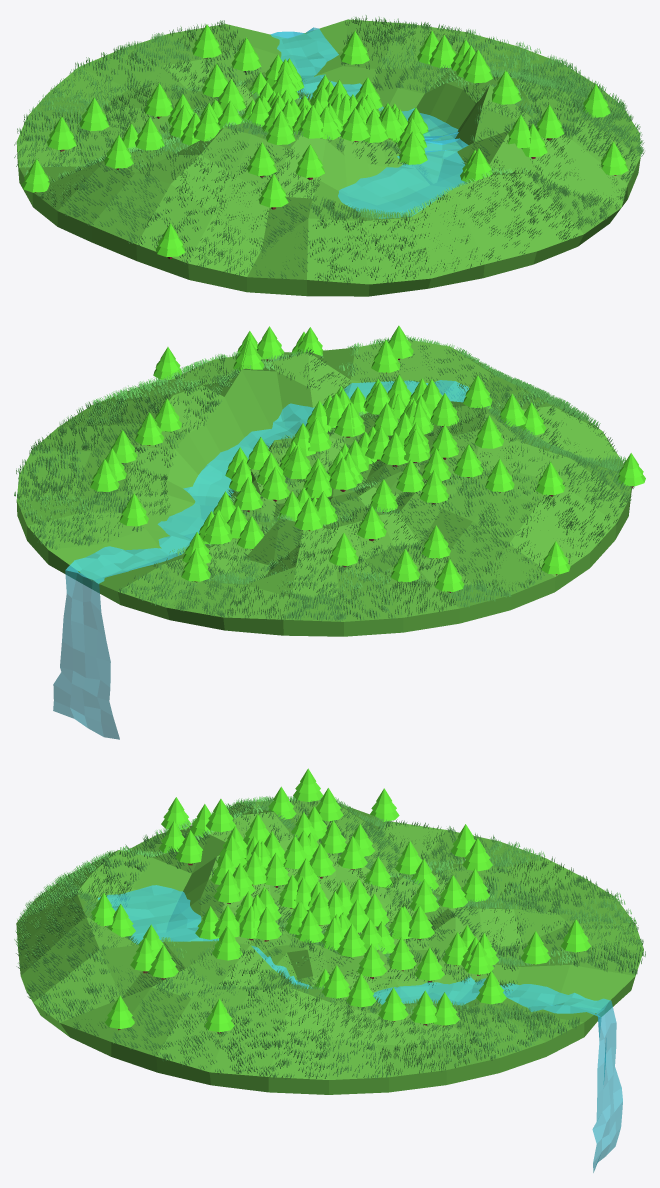
Rendered from lowpoly_stylized_environement.glb.
The picture shows the model from 3 angles, top to bottom: view 1: azimuth 30°, elevation 25°; view 2: azimuth 150°, elevation 25°; view 3: azimuth 270°, elevation 25°; orthographic projection.
Parts seen in each view (by area): view 1: Object_7, Object_2, Object_5, Object_6, Object_3; view 2: Object_7, Object_2, Object_5, Object_6, Object_3; view 3: Object_7, Object_2, Object_5, Object_6, Object_3.
Boxes of the visible parts, left/top/right/bottom form: Object_7: left=16, top=19, right=640, bottom=296; Object_2: left=21, top=24, right=628, bottom=256; Object_5: left=14, top=15, right=644, bottom=284; Object_6: left=16, top=16, right=643, bottom=283; Object_3: left=270, top=27, right=468, bottom=218; Object_7: left=16, top=339, right=631, bottom=636; Object_2: left=90, top=325, right=645, bottom=591; Object_5: left=16, top=335, right=634, bottom=620; Object_6: left=14, top=335, right=631, bottom=621; Object_3: left=53, top=380, right=468, bottom=739; Object_7: left=16, top=800, right=643, bottom=1094; Object_2: left=91, top=768, right=590, bottom=1032; Object_5: left=14, top=796, right=645, bottom=1079; Object_6: left=16, top=796, right=643, bottom=1078; Object_3: left=98, top=885, right=622, bottom=1172.
Size of the model in its own units: 2.02 by 0.9336 by 2.04.
